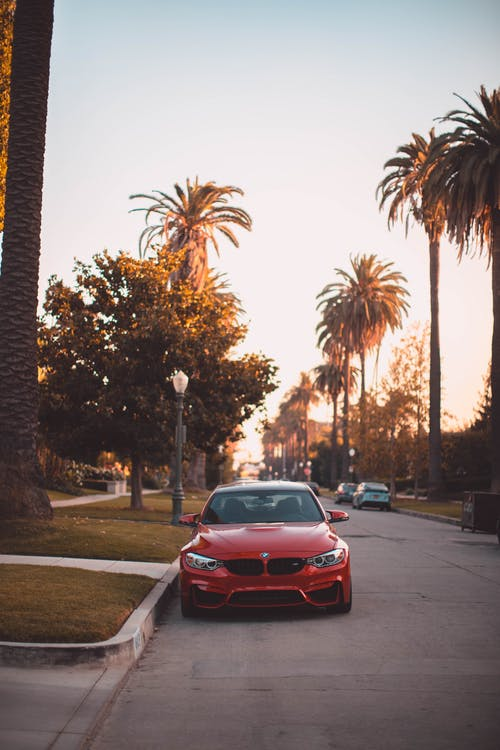bmw: (182, 479, 358, 626)
